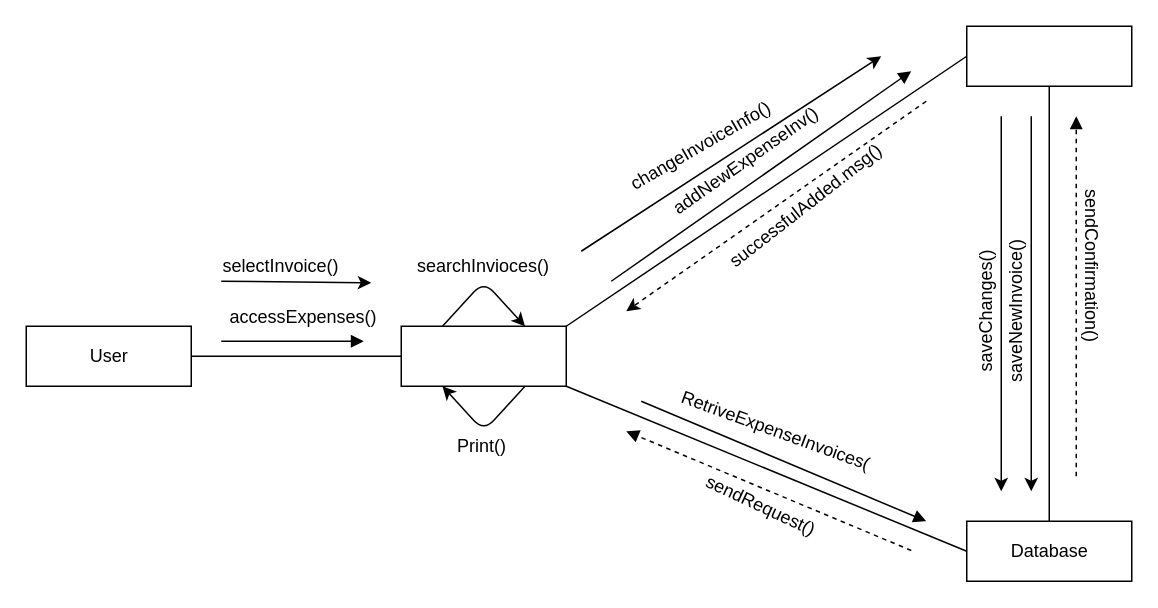
Some shapes in this 1158 by 608 pixel diagram are drawn without their labels. The centre of each missing label's shape, as x and y in pixels:
"Expenses" goes at (483,355).
"Invoice" goes at (1048,55).
